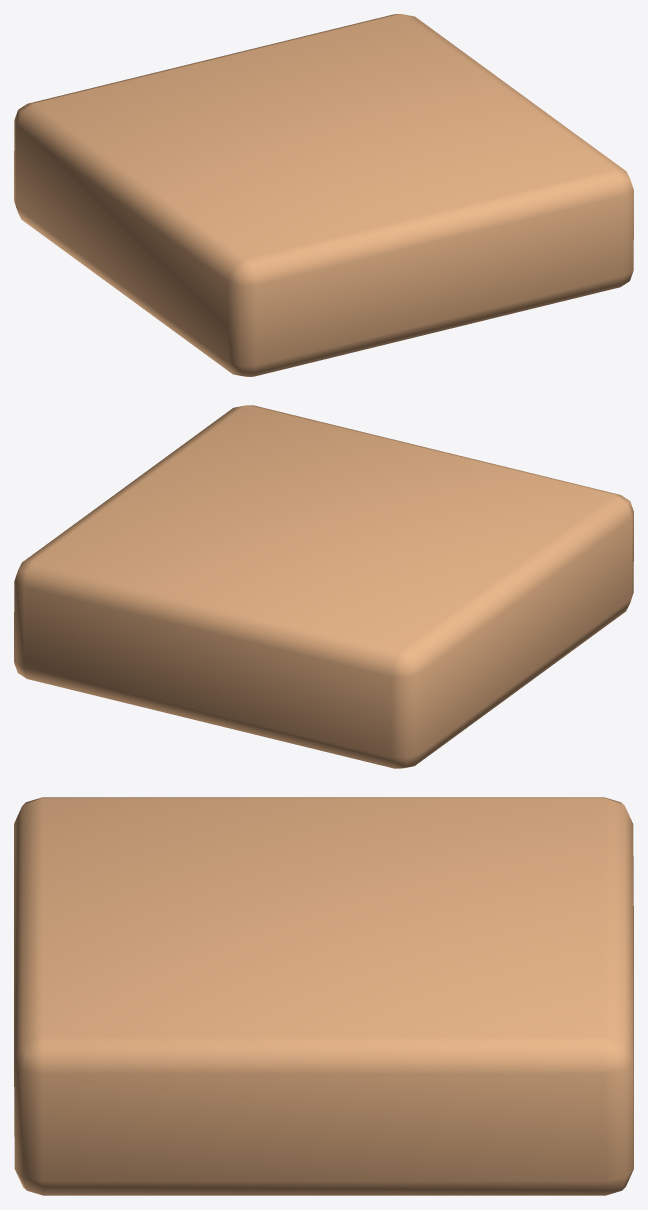
Rendered from puzzle-brick.glb.
3 renders of one model, top to bottom at view 1: azimuth 30°, elevation 25°; view 2: azimuth 150°, elevation 25°; view 3: azimuth 270°, elevation 25°, orthographic. The views are drawn at different scales.
Visible parts, largest first — view 1: brick; view 2: brick; view 3: brick.
Boxes of the visible parts, box(x1,y1,x2,y2) form: brick: box(14, 14, 633, 376); brick: box(14, 405, 633, 768); brick: box(14, 797, 633, 1195).
Size of the model in its own units: 0.22 by 0.0618 by 0.2199.
